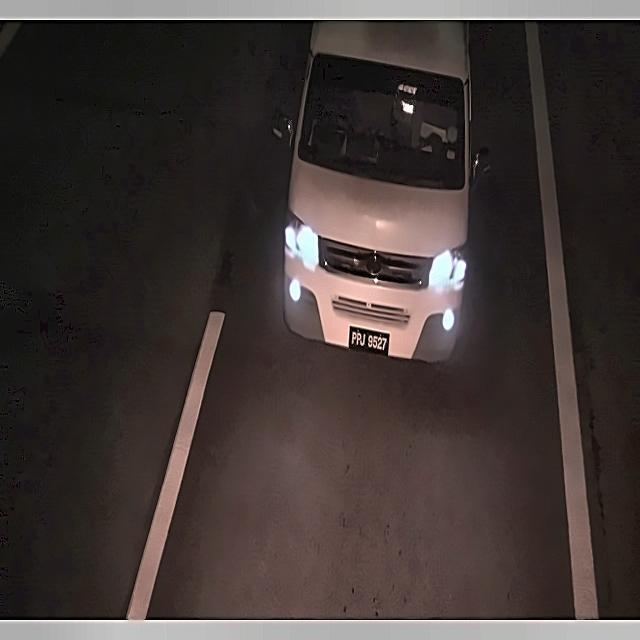car: (342, 323, 396, 360)
